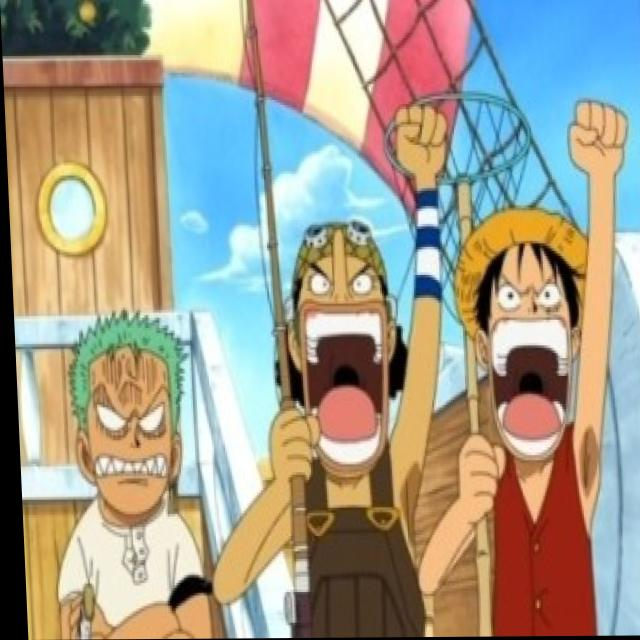Luffy: (446, 199, 612, 464)
Usopp: (269, 196, 405, 491)
Zoro: (60, 305, 192, 526)
